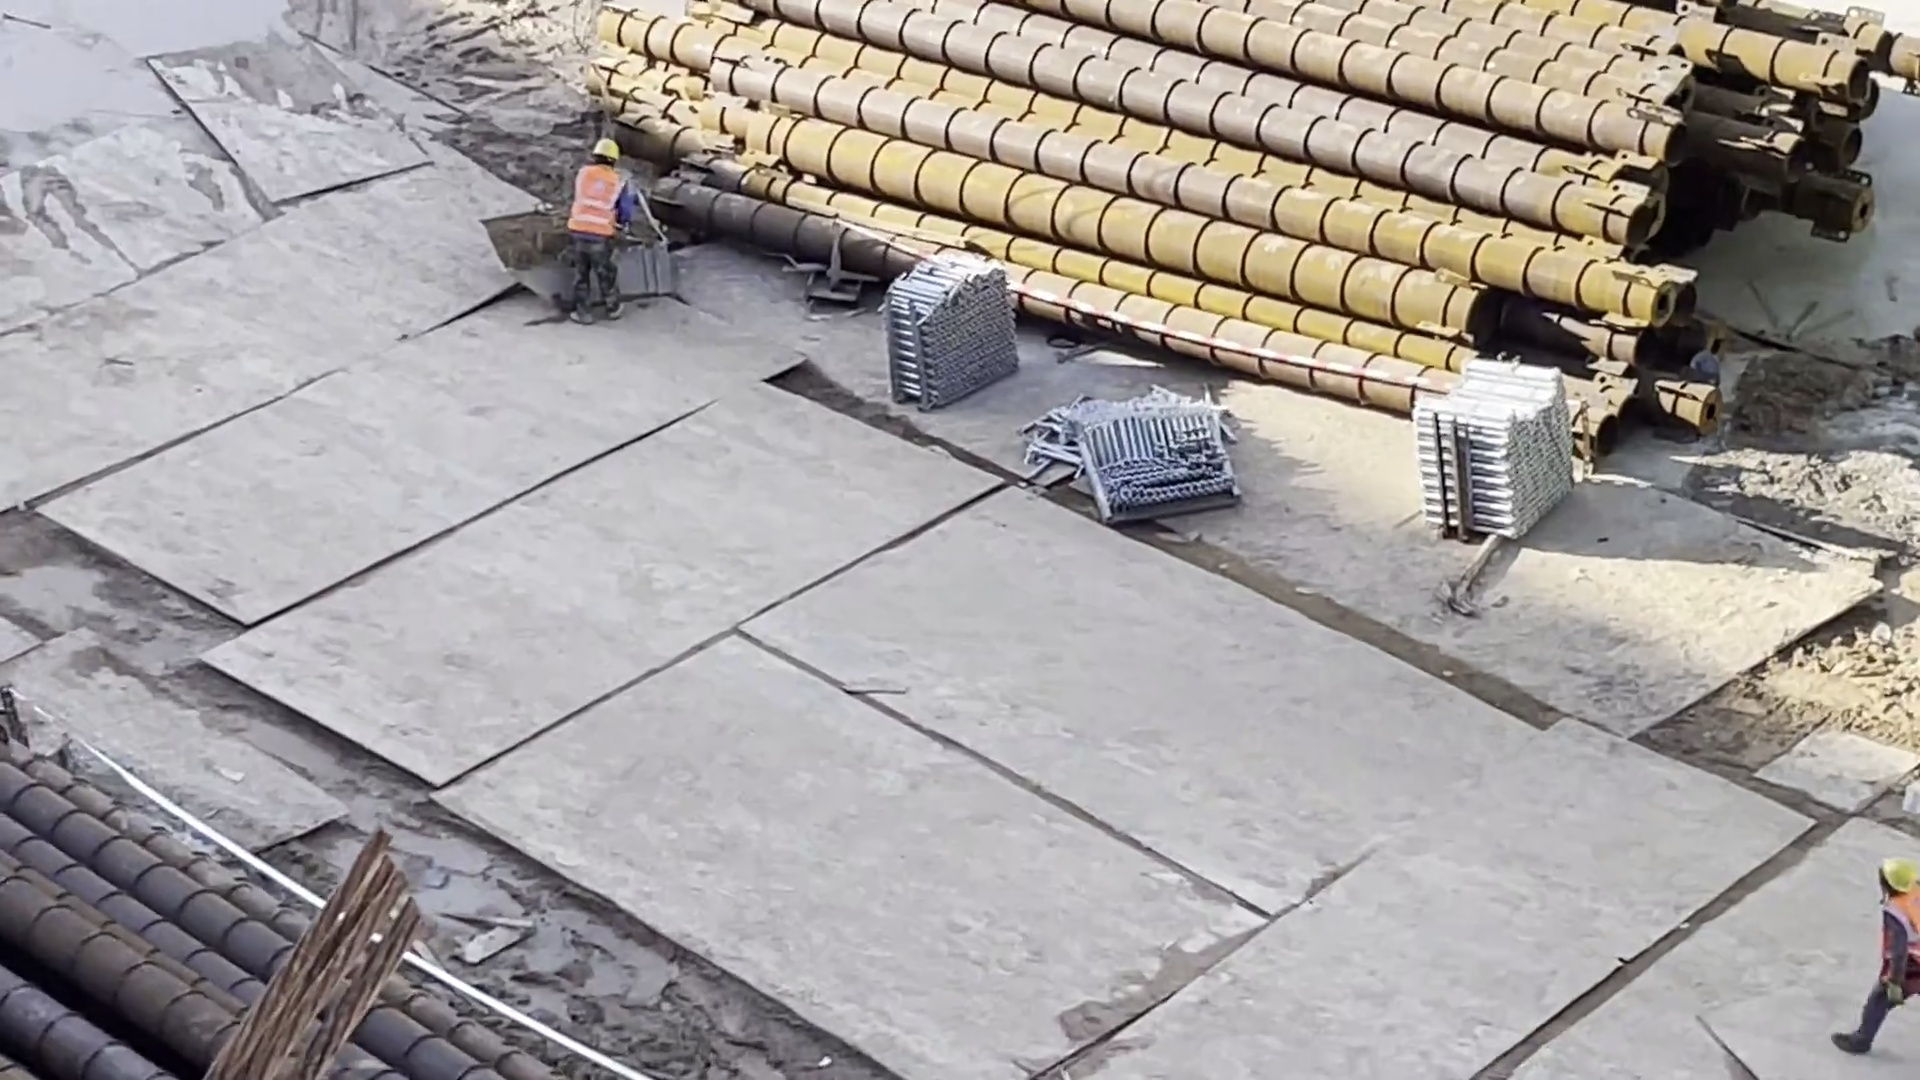helmet: (1875, 849, 1920, 900), (582, 135, 625, 163)
person: (1828, 816, 1920, 1065), (554, 130, 647, 330)
scaffold: (1410, 332, 1591, 558), (857, 212, 1037, 419)
vest: (566, 148, 623, 246), (1875, 897, 1920, 985)
